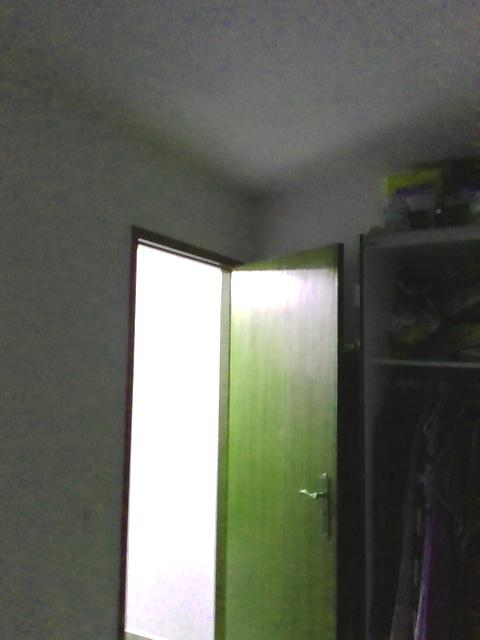open_door: (119, 222, 258, 639)
